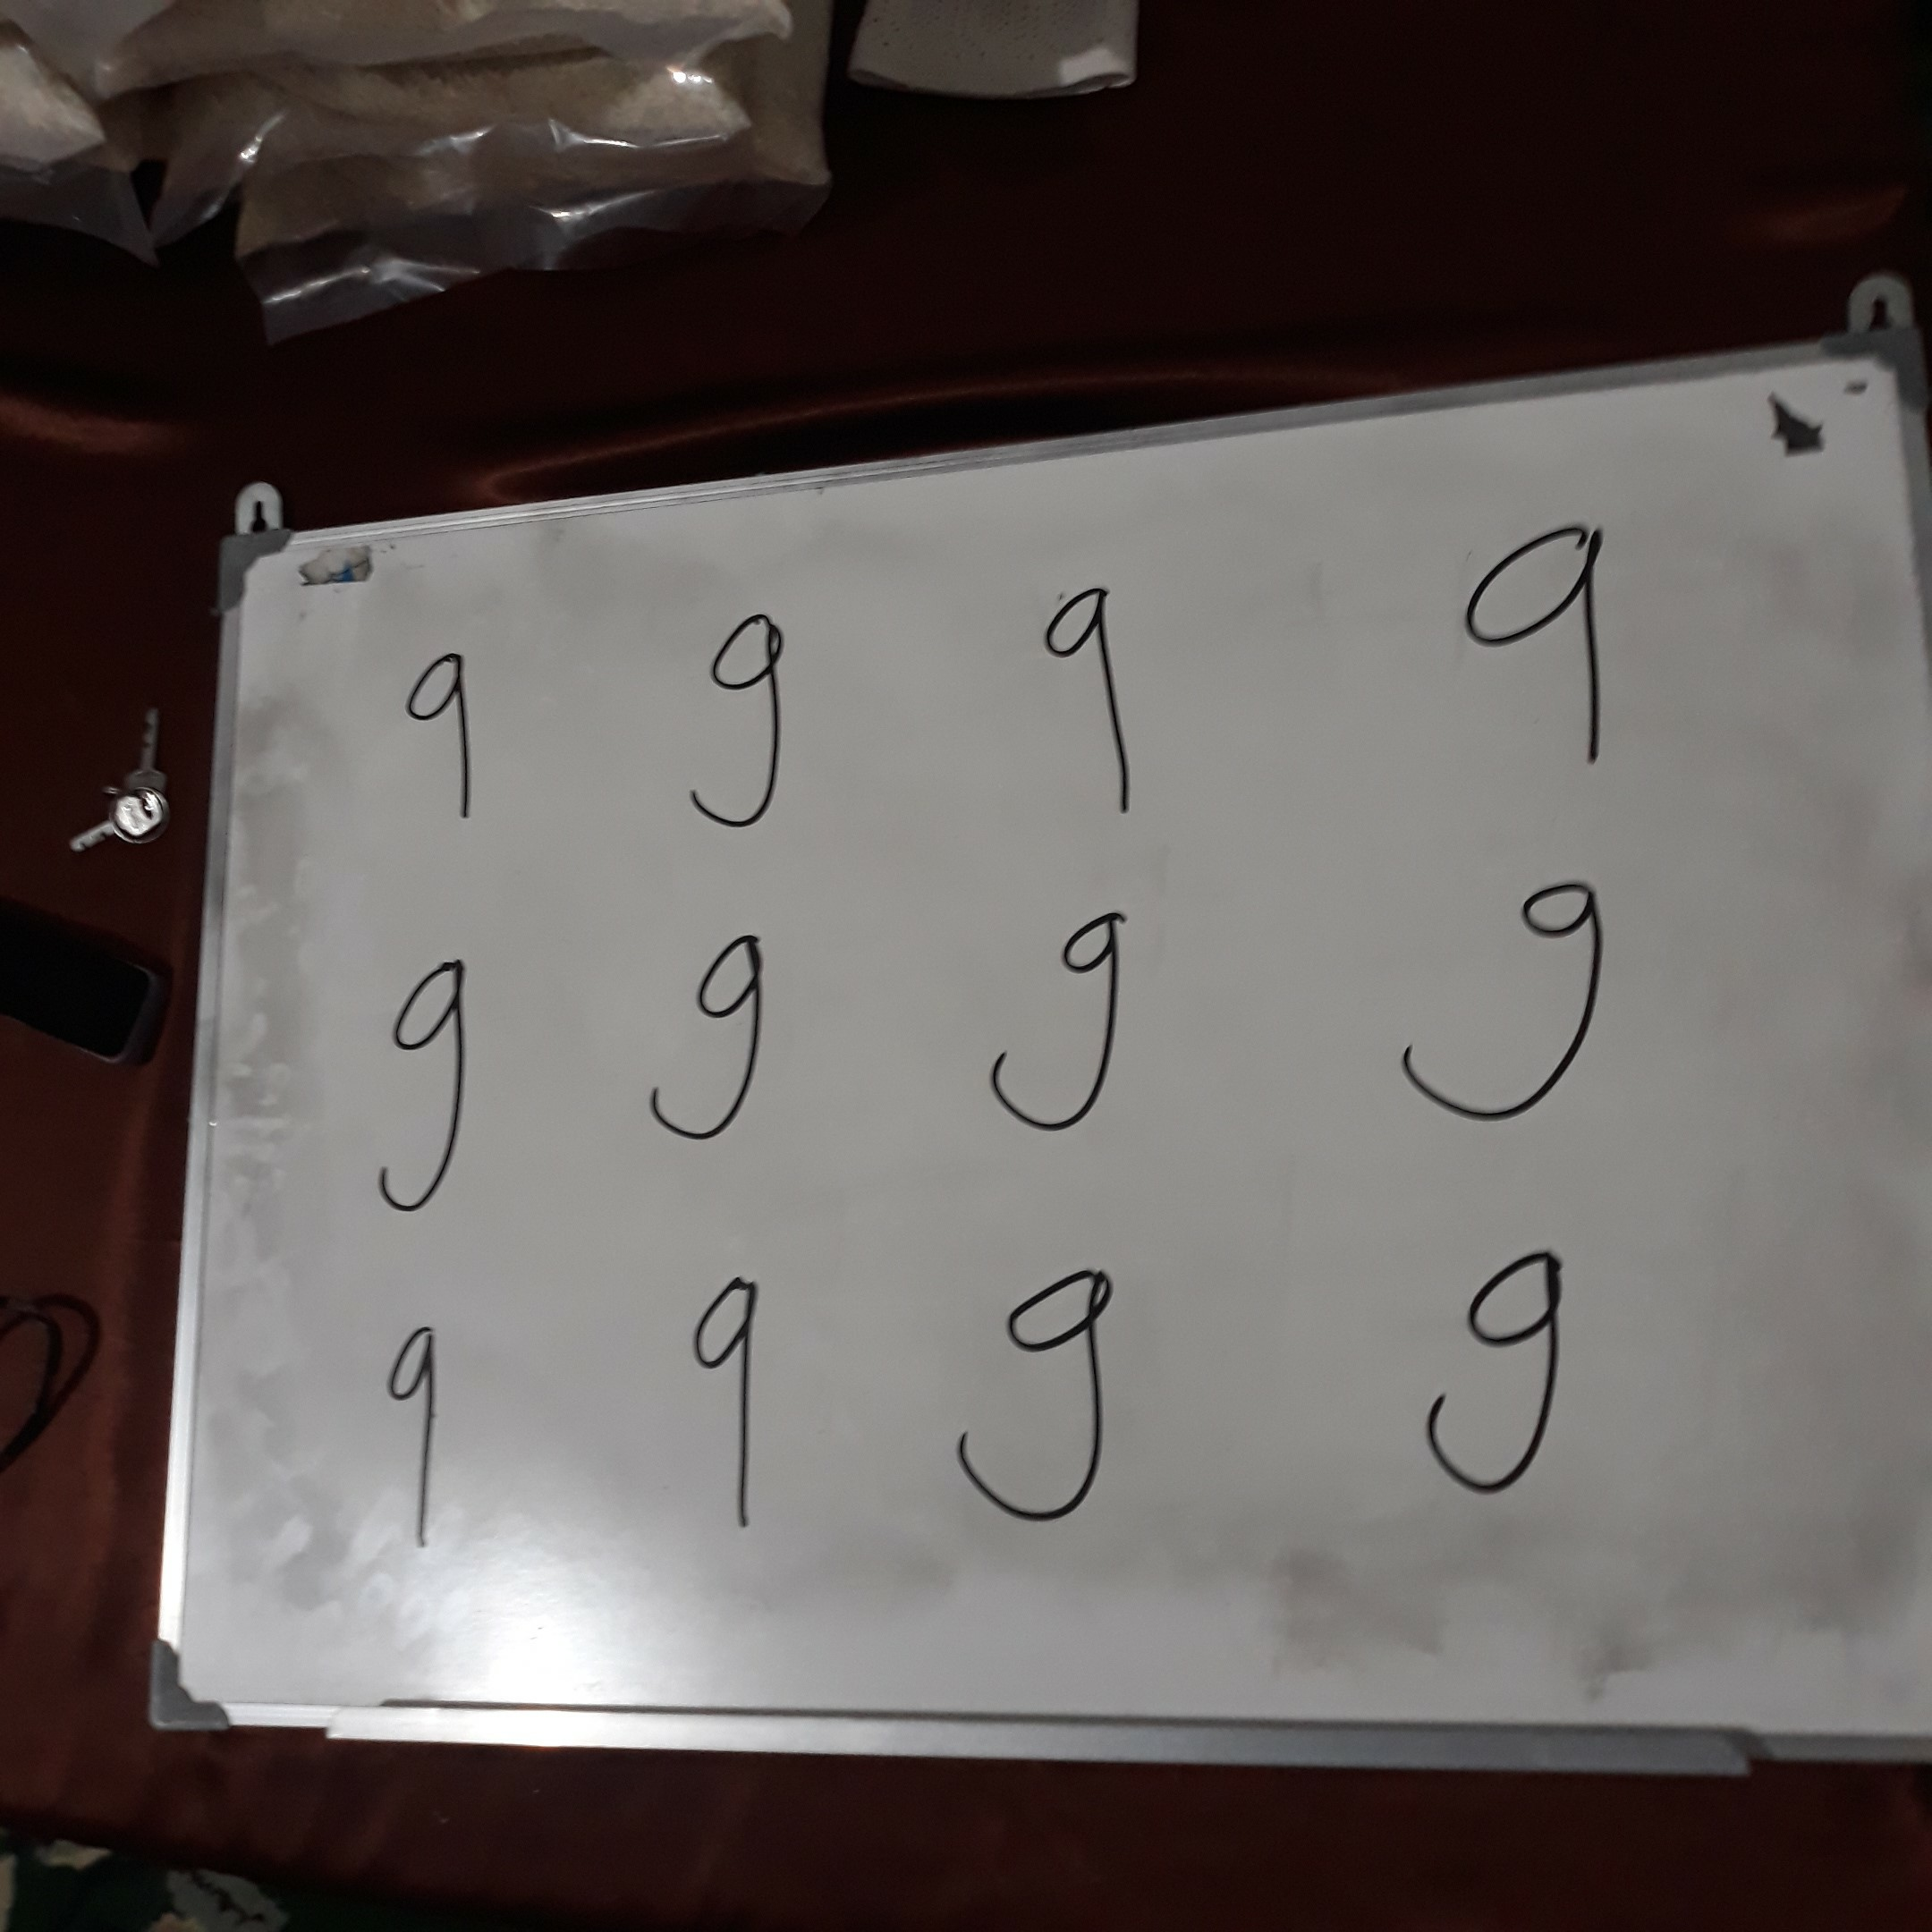num9: (1375, 869, 1637, 1138), (947, 1251, 1131, 1532), (1408, 1232, 1592, 1513), (970, 901, 1169, 1140), (1454, 512, 1623, 782), (358, 945, 495, 1231), (637, 919, 787, 1155), (1030, 577, 1157, 823), (675, 607, 800, 842), (682, 1257, 781, 1544), (369, 1301, 470, 1570), (385, 642, 504, 832)
